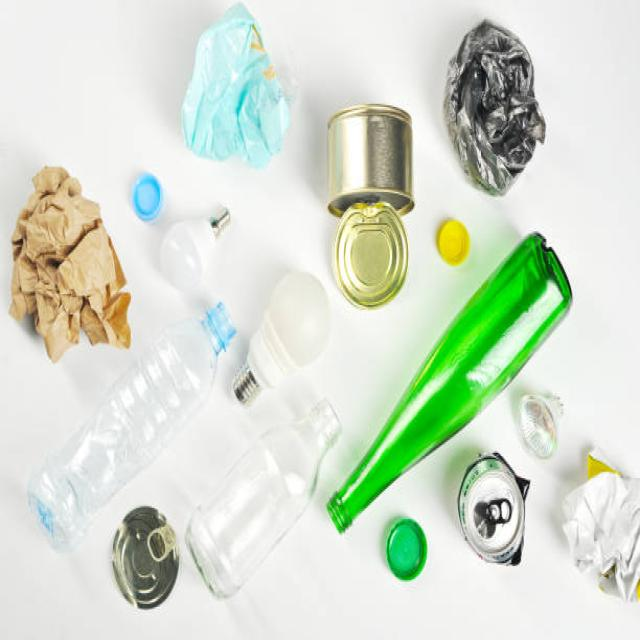glass: (468, 232, 584, 350), (186, 486, 310, 575), (262, 244, 324, 377), (170, 223, 233, 280)
metal: (325, 102, 417, 308)
plastic: (440, 12, 548, 192)
